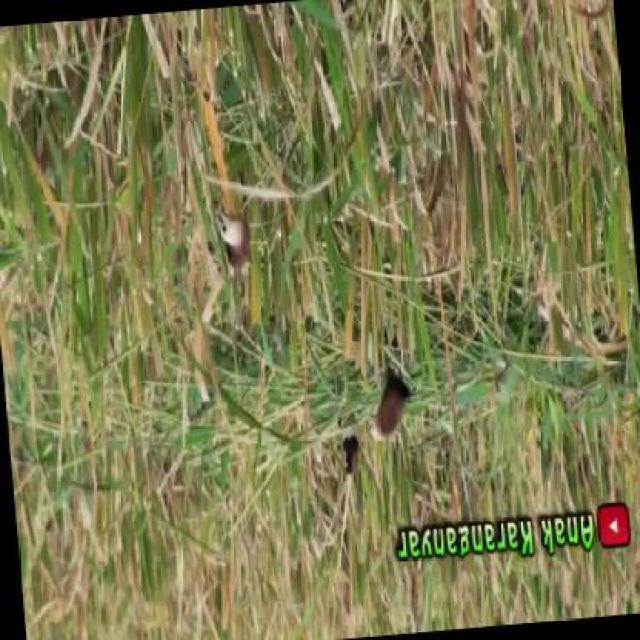Bird: (364, 354, 411, 448), (215, 210, 252, 276)
